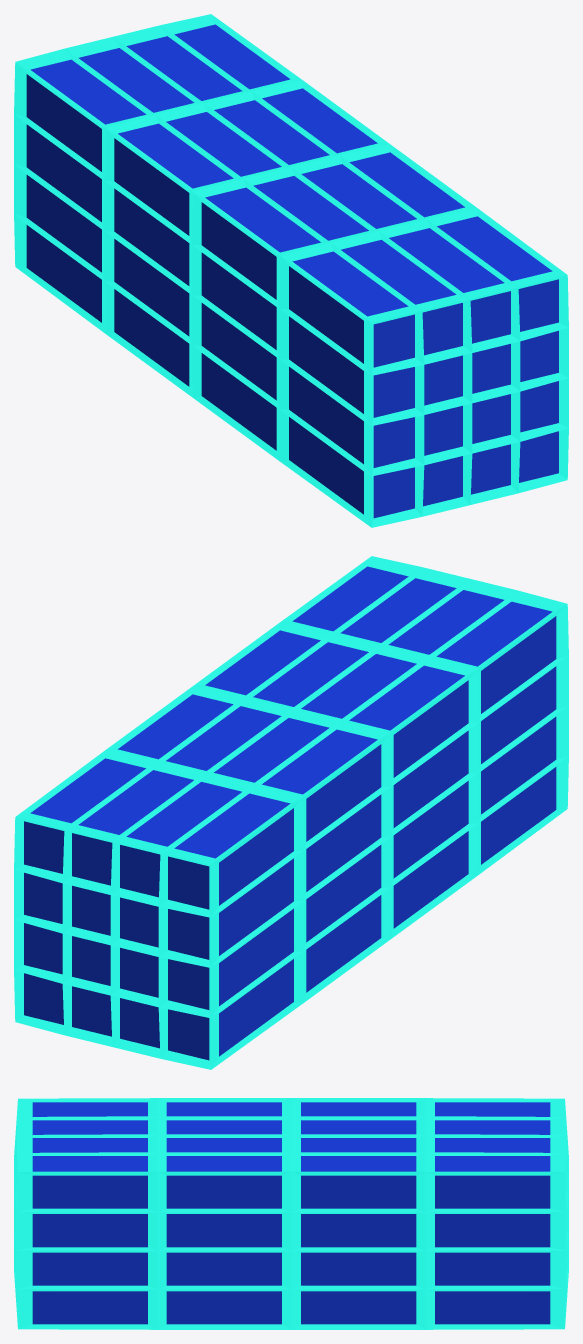
The model's file is longCube.glb.
The picture shows the model from 3 angles, top to bottom: view 1: azimuth 30°, elevation 25°; view 2: azimuth 150°, elevation 25°; view 3: azimuth 270°, elevation 25°; orthographic projection. The views are drawn at different scales.
Parts seen in each view (by area): view 1: Cube, Cube.001; view 2: Cube, Cube.001; view 3: Cube, Cube.001.
Part boxes in pixels (x1=…): Cube: x1=26, y1=24, x2=558, y2=518; Cube.001: x1=14, y1=14, x2=568, y2=527; Cube: x1=24, y1=566, x2=556, y2=1060; Cube.001: x1=14, y1=556, x2=568, y2=1069; Cube: x1=32, y1=1102, x2=550, y2=1324; Cube.001: x1=14, y1=1098, x2=568, y2=1329.
Size of the model in its own units: 2.07 by 2.07 by 6.52.
